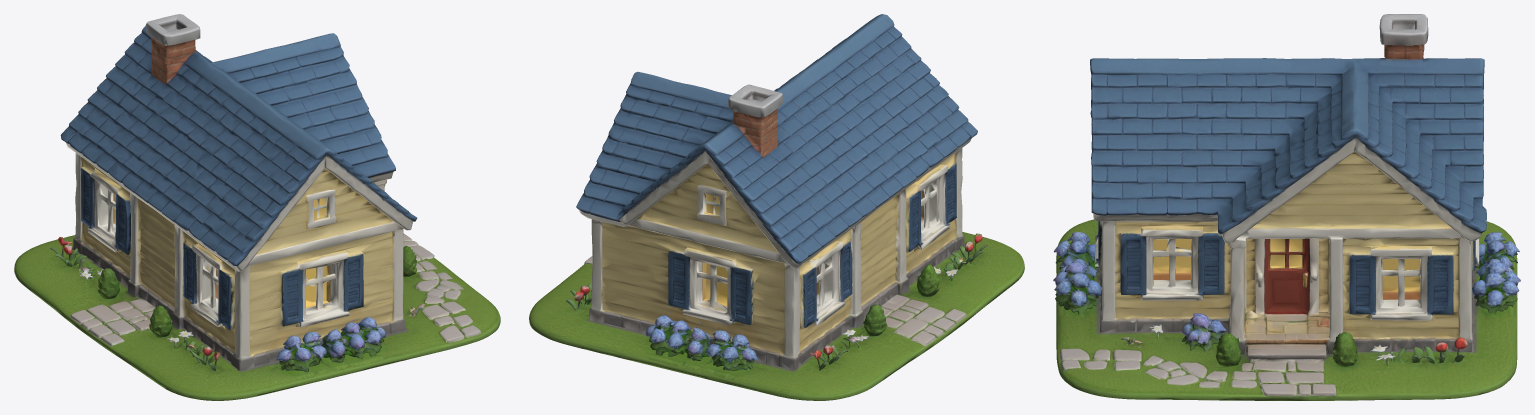
The model's file is house_1story_yellow.glb.
3 views of the same model, side by side, from view 1: azimuth 30°, elevation 25°; view 2: azimuth 150°, elevation 25°; view 3: azimuth 270°, elevation 25° (orthographic). The views are drawn at different scales.
Visible parts, largest first — view 1: tripo_node_1ae3962b-0ccc-4952-b0f5-7345d3c1767e; view 2: tripo_node_1ae3962b-0ccc-4952-b0f5-7345d3c1767e; view 3: tripo_node_1ae3962b-0ccc-4952-b0f5-7345d3c1767e.
Part boxes in pixels (left/top/right/bottom): tripo_node_1ae3962b-0ccc-4952-b0f5-7345d3c1767e: left=14, top=14, right=500, bottom=400; tripo_node_1ae3962b-0ccc-4952-b0f5-7345d3c1767e: left=529, top=14, right=1024, bottom=400; tripo_node_1ae3962b-0ccc-4952-b0f5-7345d3c1767e: left=1053, top=14, right=1520, bottom=400.
Size of the model in its own units: 0.9276 by 0.6353 by 1.
Materials: 1 (1 with a texture image).
